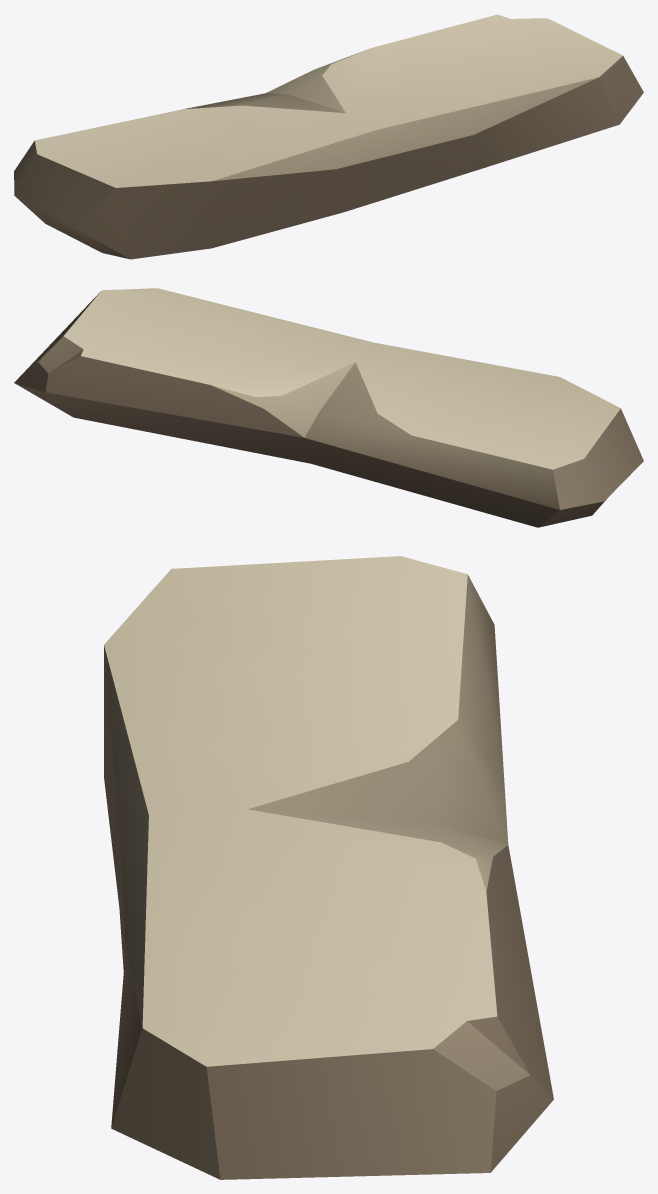
Rendered from Stone_Step_5B.fbx.
3 views of the same model, one above another, from view 1: azimuth 30°, elevation 25°; view 2: azimuth 150°, elevation 25°; view 3: azimuth 270°, elevation 25° (orthographic). The views are drawn at different scales.
Visible parts, largest first — view 1: Stone_Step_5B; view 2: Stone_Step_5B; view 3: Stone_Step_5B.
Part boxes in pixels (box(x1,y1,x2,y2)): Stone_Step_5B: box(14, 14, 643, 259); Stone_Step_5B: box(14, 288, 643, 527); Stone_Step_5B: box(104, 556, 553, 1179).
Size of the model in its own units: 2.9 by 0.3189 by 0.9803.
